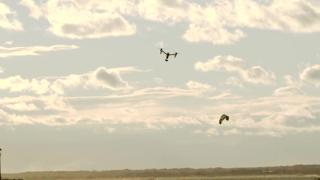UAV: (159, 48, 179, 62)
